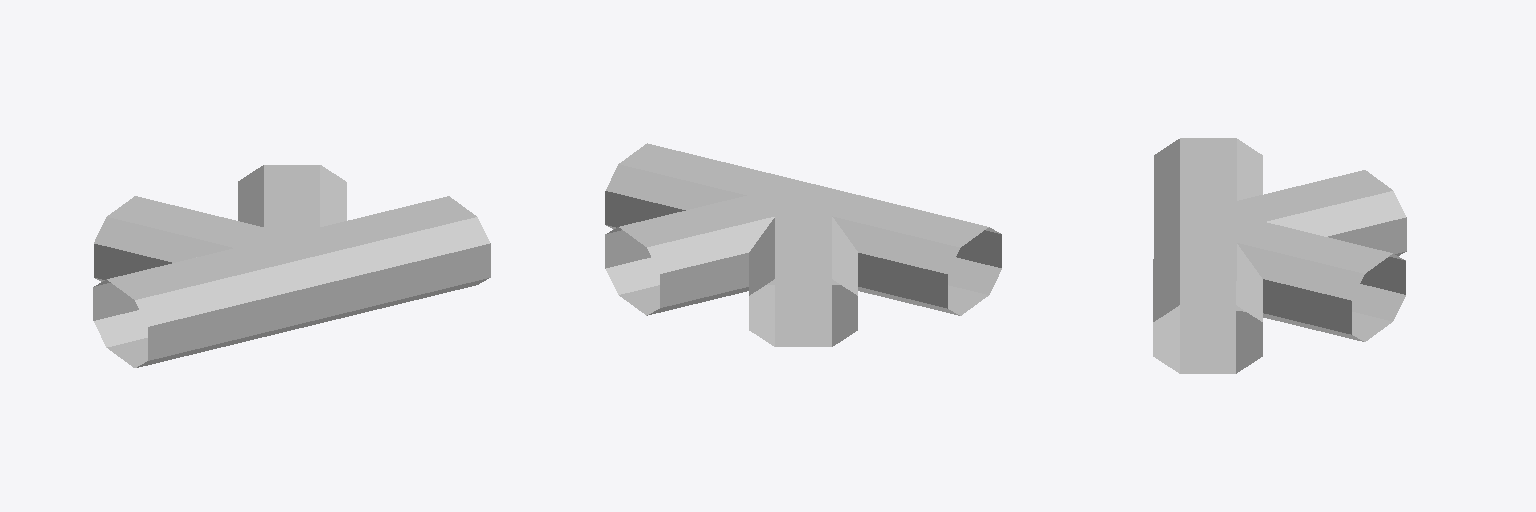
File: Block40.obj
The picture shows the model from 3 angles: view 1: azimuth 30°, elevation 25°; view 2: azimuth 150°, elevation 25°; view 3: azimuth 270°, elevation 25°; orthographic projection.
Parts seen in each view (by area): view 1: Block40.001_Cylinder.021; view 2: Block40.001_Cylinder.021; view 3: Block40.001_Cylinder.021.
Part boxes in pixels (bbox=[...]): Block40.001_Cylinder.021: bbox=[93, 165, 490, 367]; Block40.001_Cylinder.021: bbox=[605, 143, 1001, 346]; Block40.001_Cylinder.021: bbox=[1153, 138, 1406, 373].
Bounding box in the file's own units: 1.73 × 0.3302 × 1.11.